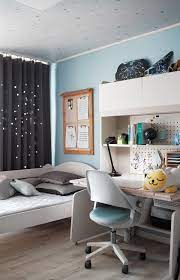Bed: (2, 158, 96, 236)
Chair: (76, 166, 152, 274)
